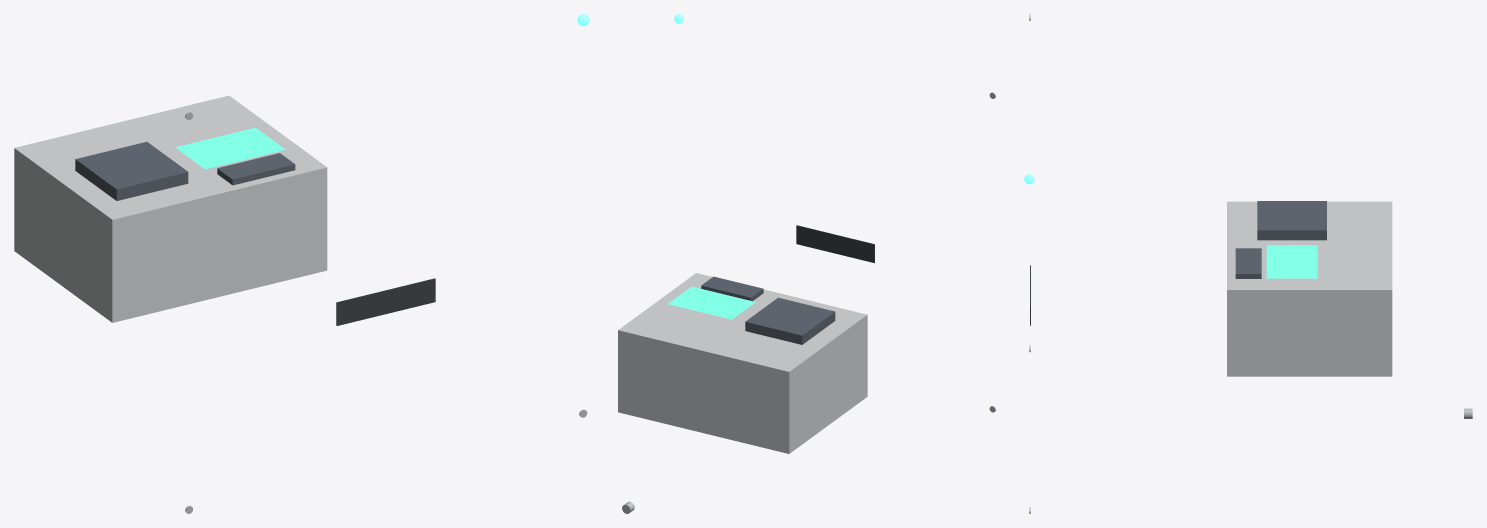
File: SM_UVVis_Spectrophotometer.glb
3 renders of one model, left to right at view 1: azimuth 30°, elevation 25°; view 2: azimuth 150°, elevation 25°; view 3: azimuth 270°, elevation 25°, orthographic. The views are drawn at different scales.
Visible parts, largest first — view 1: UVVis_Chassis, UVVis_SampleDoor, Detail_RatingPlate, UVVis_DisplayScreen, UVVis_Keypad; view 2: UVVis_Chassis, UVVis_SampleDoor, UVVis_DisplayScreen, Detail_RatingPlate, UVVis_Keypad; view 3: UVVis_Chassis, UVVis_SampleDoor, UVVis_DisplayScreen, UVVis_Keypad.
Part boxes in pixels (x1,y1,x2,y2): UVVis_Chassis: [14, 95, 327, 322]; UVVis_SampleDoor: [75, 141, 188, 200]; Detail_RatingPlate: [336, 278, 435, 325]; UVVis_DisplayScreen: [175, 127, 285, 169]; UVVis_Keypad: [217, 153, 295, 185]; UVVis_Chassis: [618, 273, 867, 453]; UVVis_SampleDoor: [745, 297, 835, 344]; UVVis_DisplayScreen: [668, 286, 755, 319]; Detail_RatingPlate: [796, 225, 874, 262]; UVVis_Keypad: [701, 276, 763, 301]; UVVis_Chassis: [1227, 201, 1392, 376]; UVVis_SampleDoor: [1257, 201, 1326, 240]; UVVis_DisplayScreen: [1266, 245, 1317, 278]; UVVis_Keypad: [1235, 248, 1261, 278].
Size of the model in its own units: 0.9 by 0.86 by 1.03.
